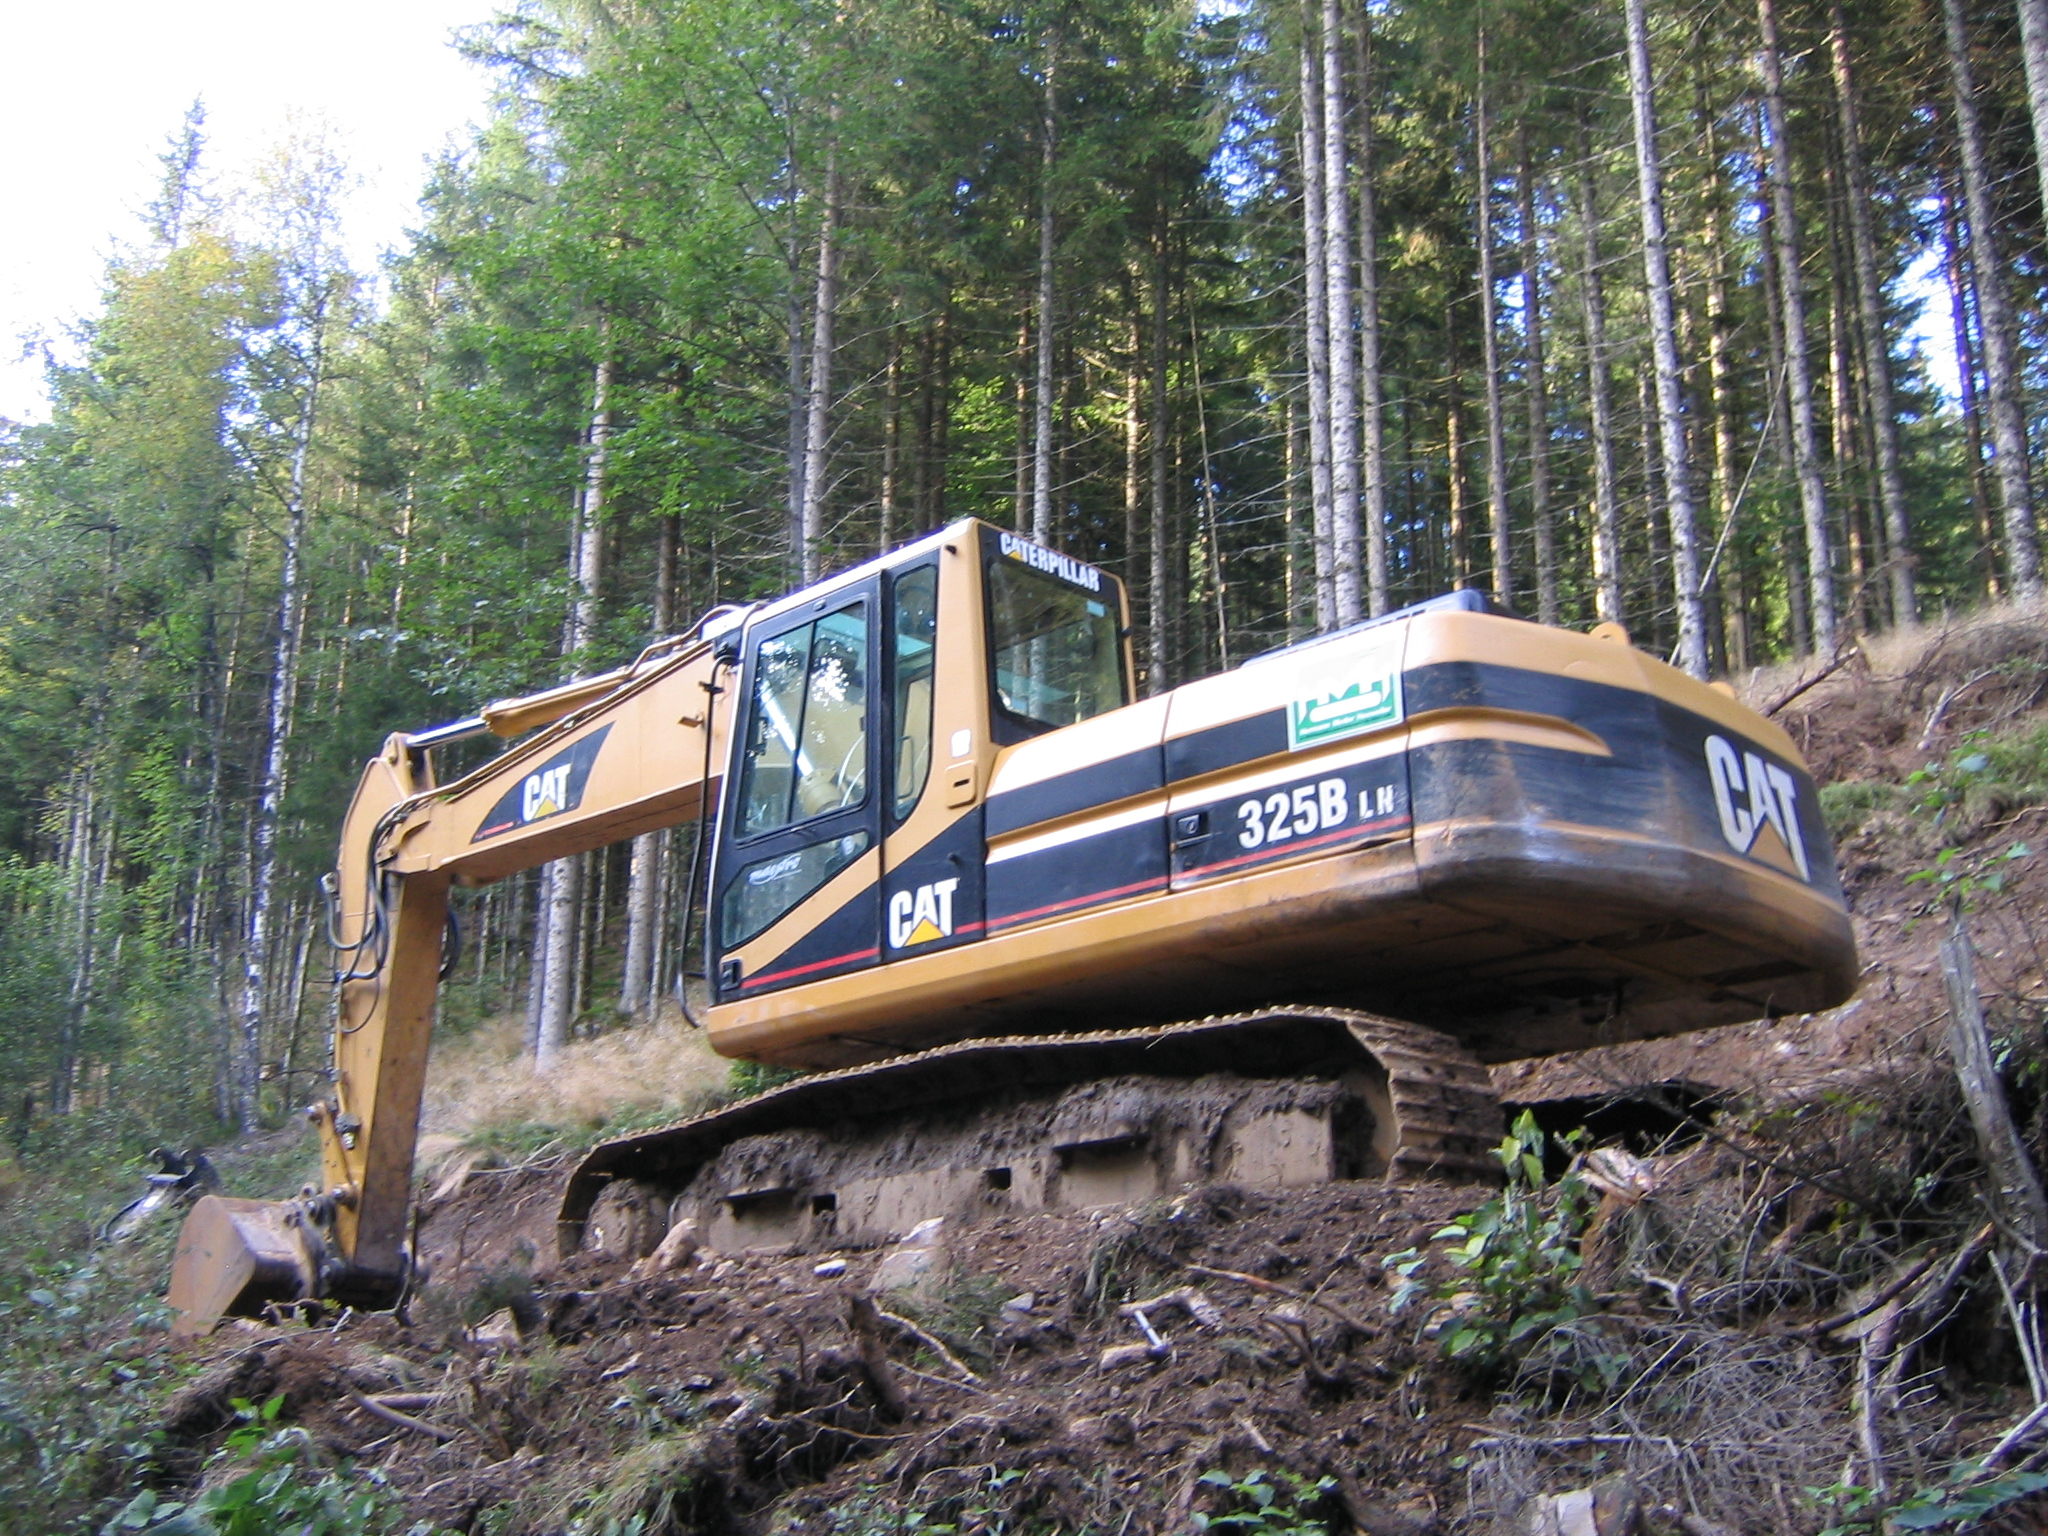excavator: (118, 507, 1872, 1350)
